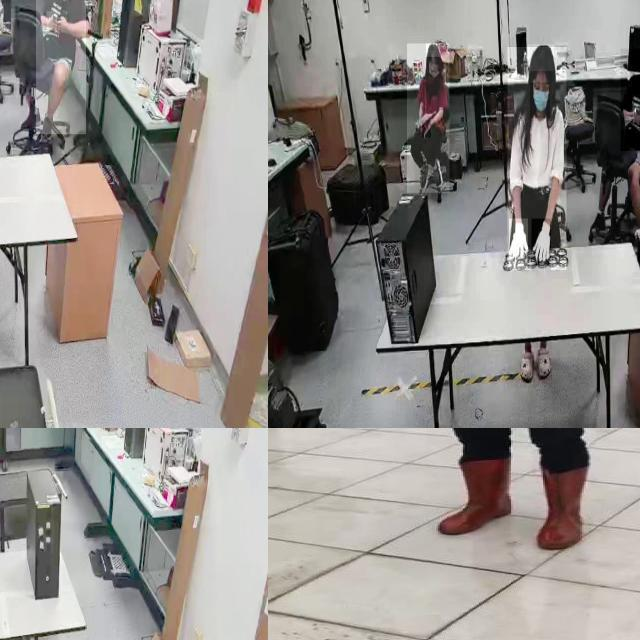boots: (436, 458, 514, 537), (532, 467, 590, 550)
face_mask: (530, 83, 550, 118)
hand_glove: (532, 218, 552, 272), (509, 218, 529, 268)
hand_noglove: (51, 14, 67, 33), (47, 11, 57, 31), (422, 120, 432, 138), (632, 104, 640, 123)
head_nohelmet: (528, 44, 554, 72), (426, 44, 440, 58)
person: (389, 428, 623, 555), (507, 47, 567, 271), (35, 0, 86, 135), (407, 44, 450, 194), (620, 49, 640, 152)
shoes: (415, 155, 431, 191), (431, 154, 444, 189)
